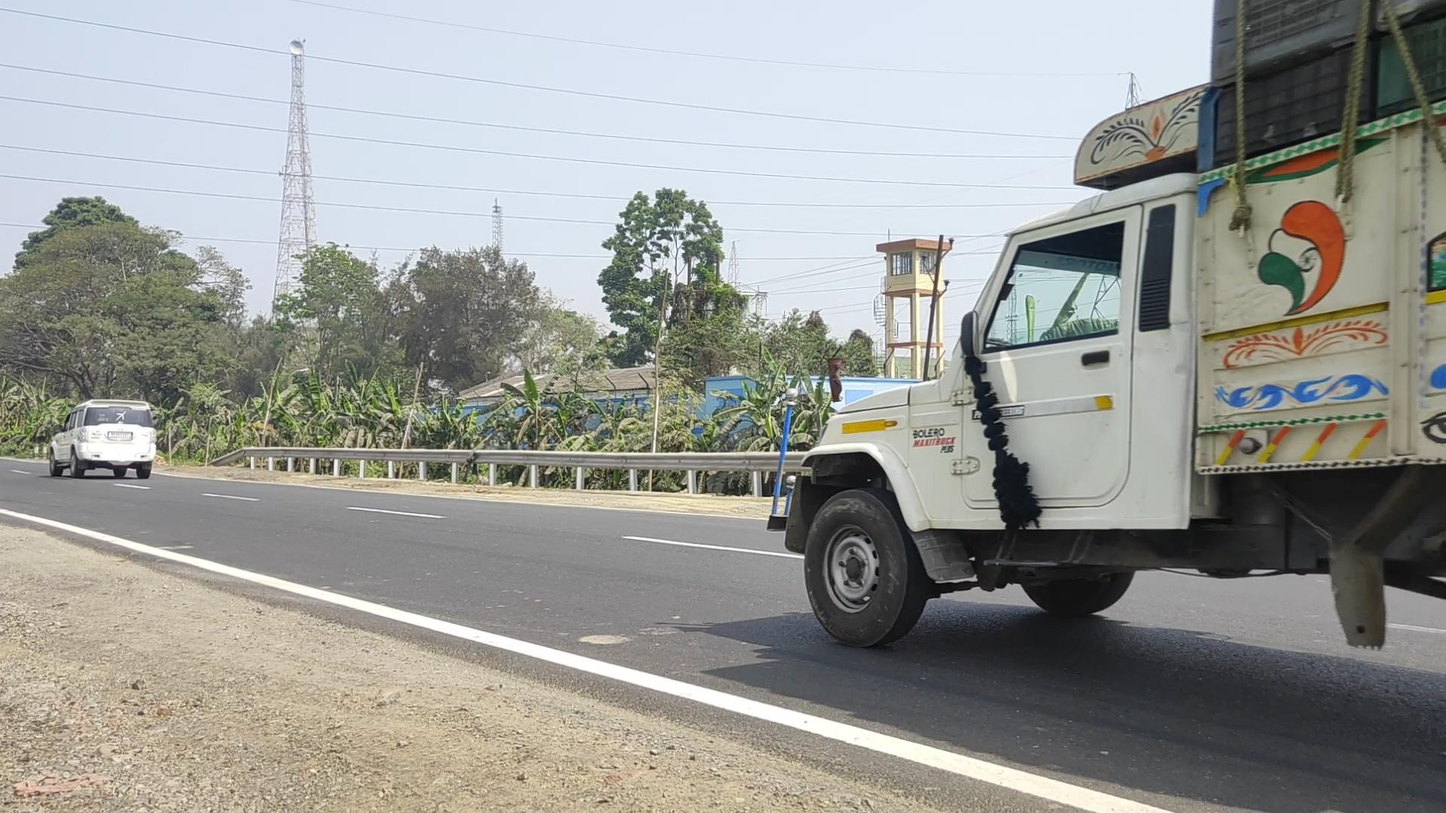car: (48, 399, 157, 480)
van: (769, 4, 1446, 650)
